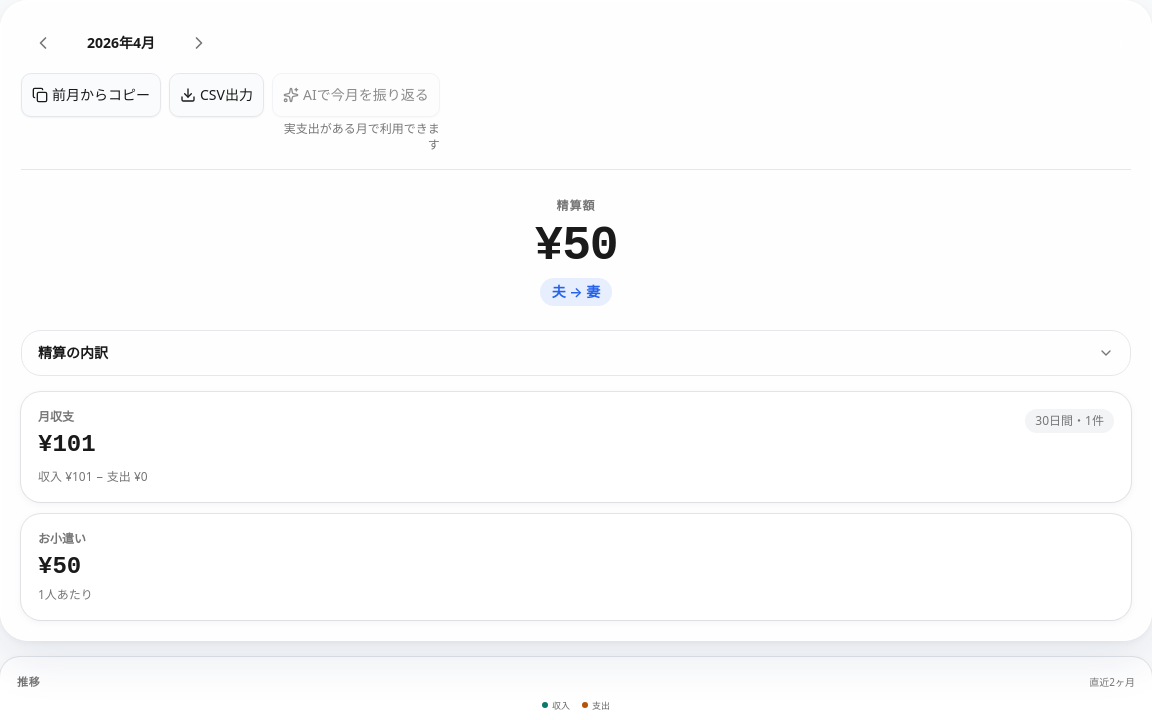
Test: MonthlyOverview › 内訳は0.5円を表示し、上部の精算額は既存の整数表示を保つ
Click the button "精算の内訳". click: (73, 352)
box: [22,331,1130,375]
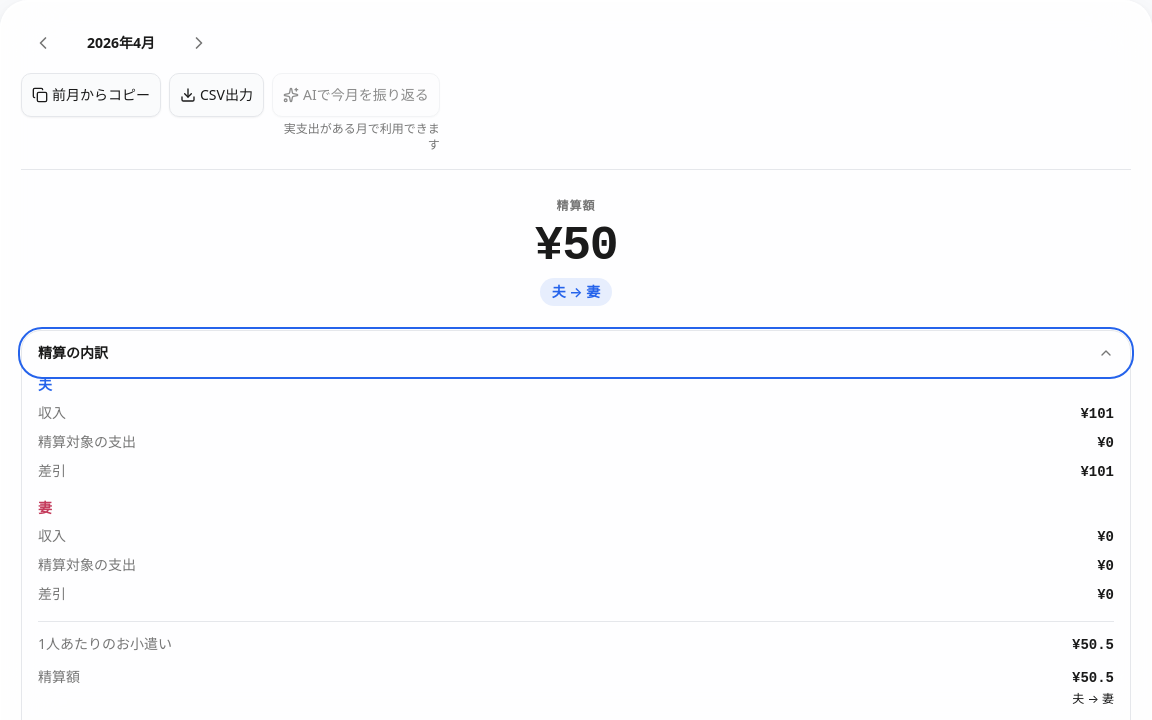
expect the text "¥50.5" is shown 2 times: met, box [1072,635,1114,655]; [1072,668,1114,688]
